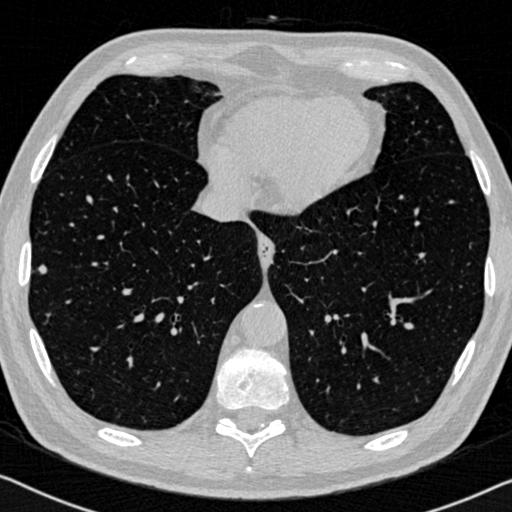nodule: (36, 263, 49, 276)
